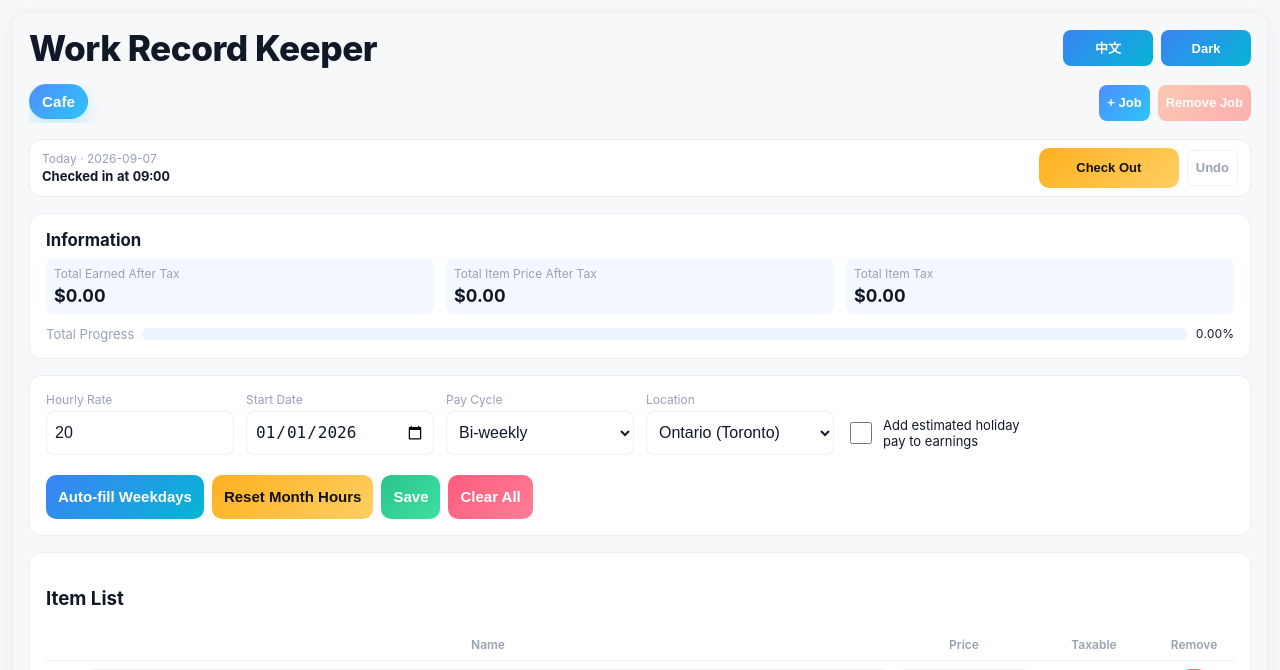
Test: undo again clears the check in and the day goes back to untouched
This screenshot has width=1280, height=670.
Click the button with class "check-undo": point(1212, 168) [1187,150,1238,186]
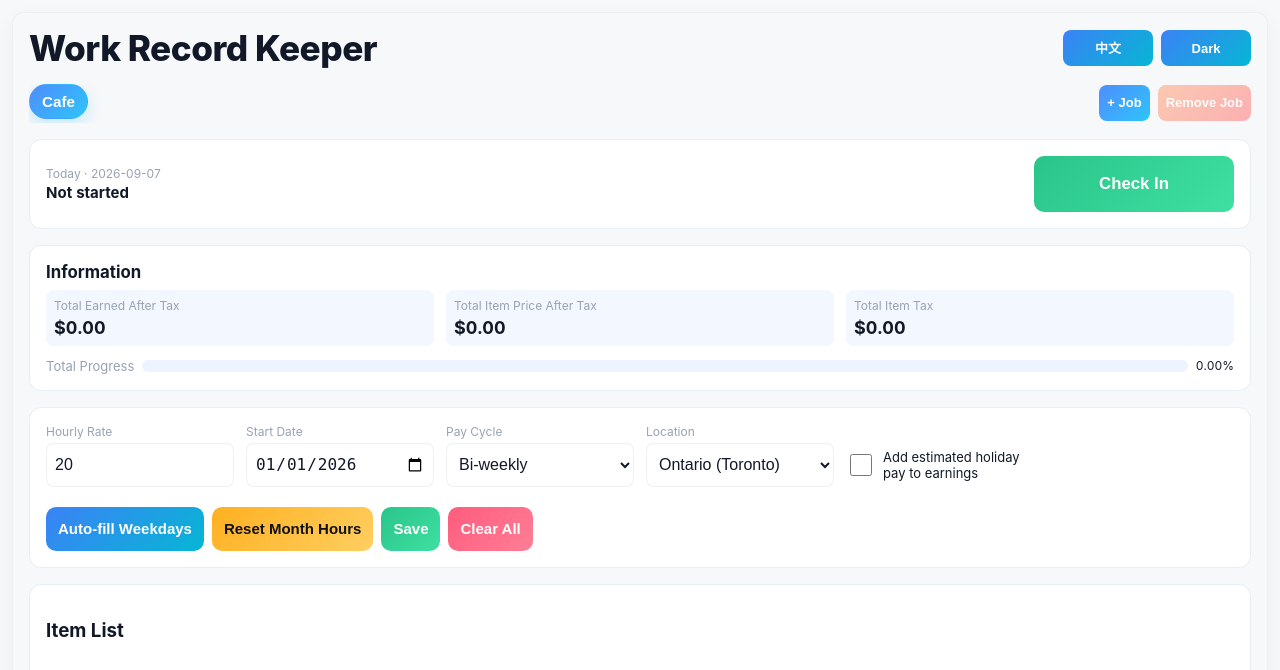
Result: the button with class "check-btn" reads "Check In" at [1034,156,1234,212]
Result: the text with class "check-status" reads "Not started" at [46,183,129,202]
Result: the button with class "check-undo" is gone
